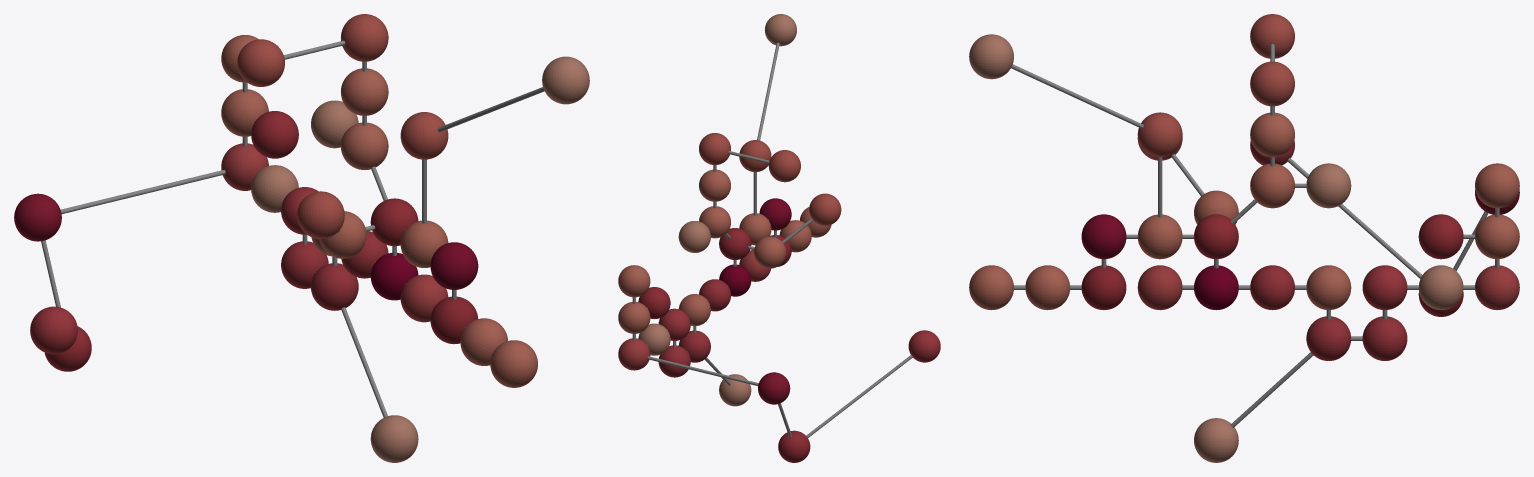
File: Figure_2_similar_3.glb
The picture shows the model from 3 angles, left to right: view 1: azimuth 30°, elevation 25°; view 2: azimuth 150°, elevation 25°; view 3: azimuth 270°, elevation 25°; orthographic projection. The views are drawn at different scales.
Visible parts, largest first — view 1: world; view 2: world; view 3: world.
Boxes of the visible parts, box(x1,y1,x2,y2) form: world: box(14, 14, 589, 462); world: box(618, 14, 940, 462); world: box(969, 14, 1519, 462).
Size of the model in its own units: 7.8 by 8.8 by 9.8.
